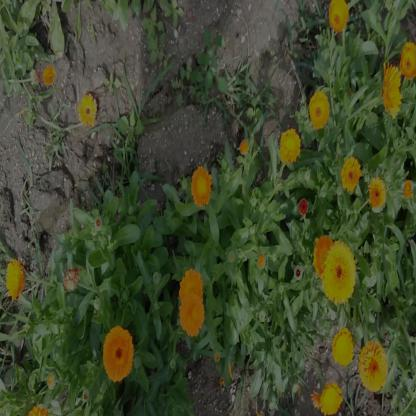marigold: (324, 245, 356, 306), (359, 340, 388, 393), (179, 276, 203, 340), (102, 327, 131, 379), (380, 65, 401, 114), (191, 166, 211, 206), (312, 89, 332, 128), (342, 155, 363, 192), (334, 328, 355, 364), (76, 89, 97, 124), (282, 125, 302, 160), (321, 383, 343, 413), (6, 264, 23, 302)
